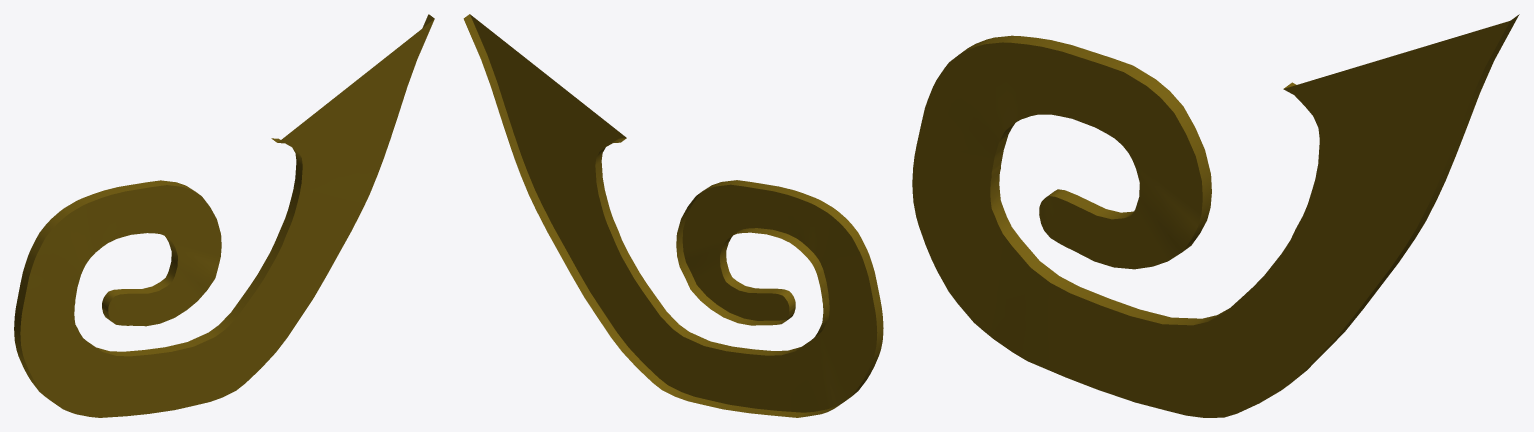
Rendered from Pieza Rota Ojo.fbx.
The picture shows the model from 3 angles, left to right: view 1: azimuth 30°, elevation 25°; view 2: azimuth 150°, elevation 25°; view 3: azimuth 330°, elevation 25°; orthographic projection. The views are drawn at different scales.
Parts seen in each view (by area): view 1: polySurface37; view 2: polySurface37; view 3: polySurface37.
Boxes of the visible parts, x1,y1,x2,y2 form: polySurface37: (14, 14, 434, 417); polySurface37: (463, 14, 883, 417); polySurface37: (912, 14, 1519, 417).
Size of the model in its own units: 2.79 by 2.11 by 0.0891.
